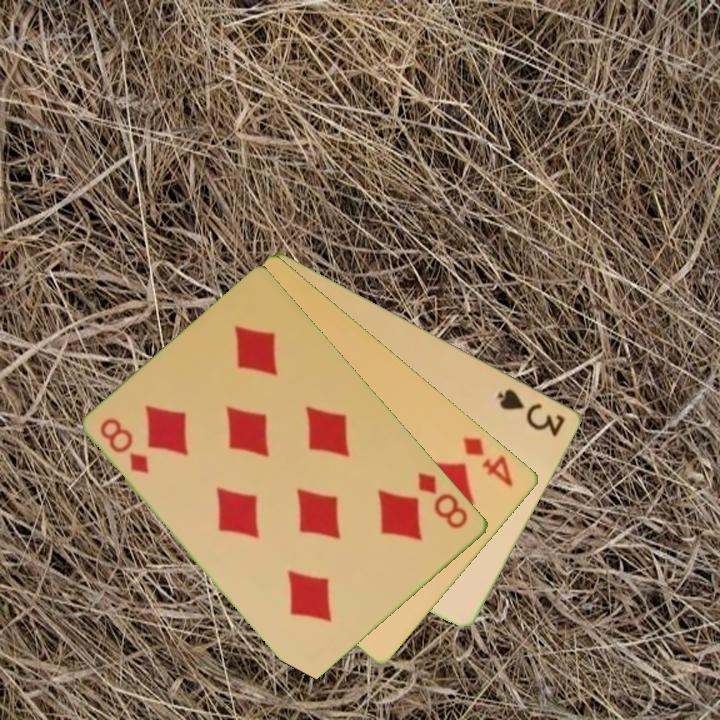3s: (494, 385, 569, 439)
4d: (459, 433, 517, 490)
8d: (414, 468, 472, 532), (96, 414, 153, 477)
